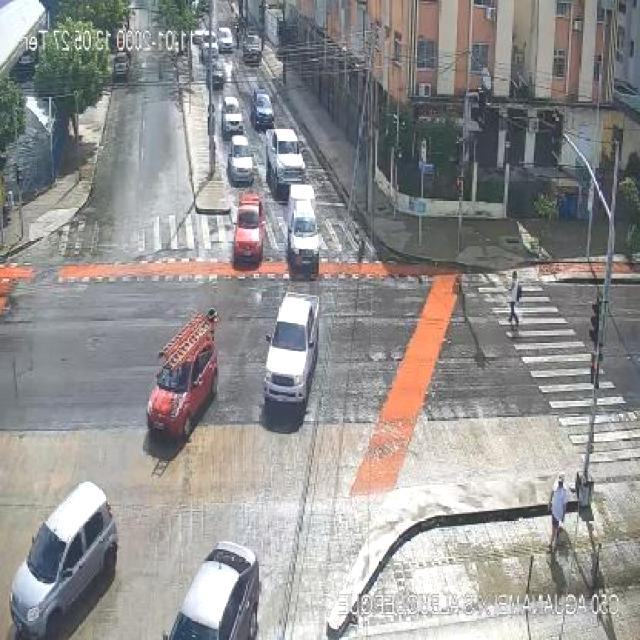Car: (8, 480, 121, 640), (145, 306, 218, 439), (162, 540, 261, 638), (262, 292, 320, 410), (284, 188, 320, 278), (264, 127, 306, 197), (233, 193, 266, 267), (228, 137, 256, 184), (250, 89, 274, 129), (221, 98, 243, 137), (205, 61, 228, 90), (242, 34, 262, 65), (113, 52, 130, 82), (217, 27, 234, 52), (201, 40, 219, 62)
